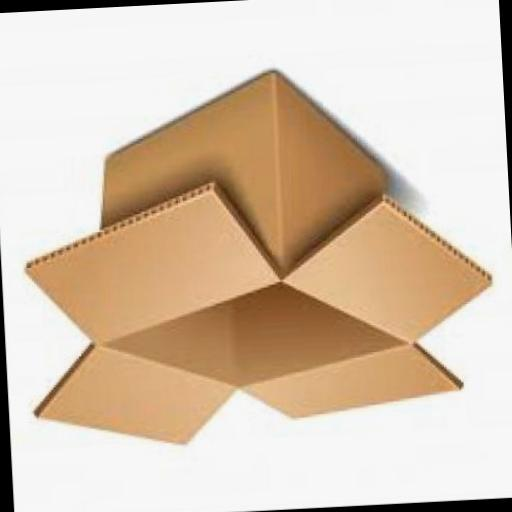cardboard: (18, 63, 501, 458)
